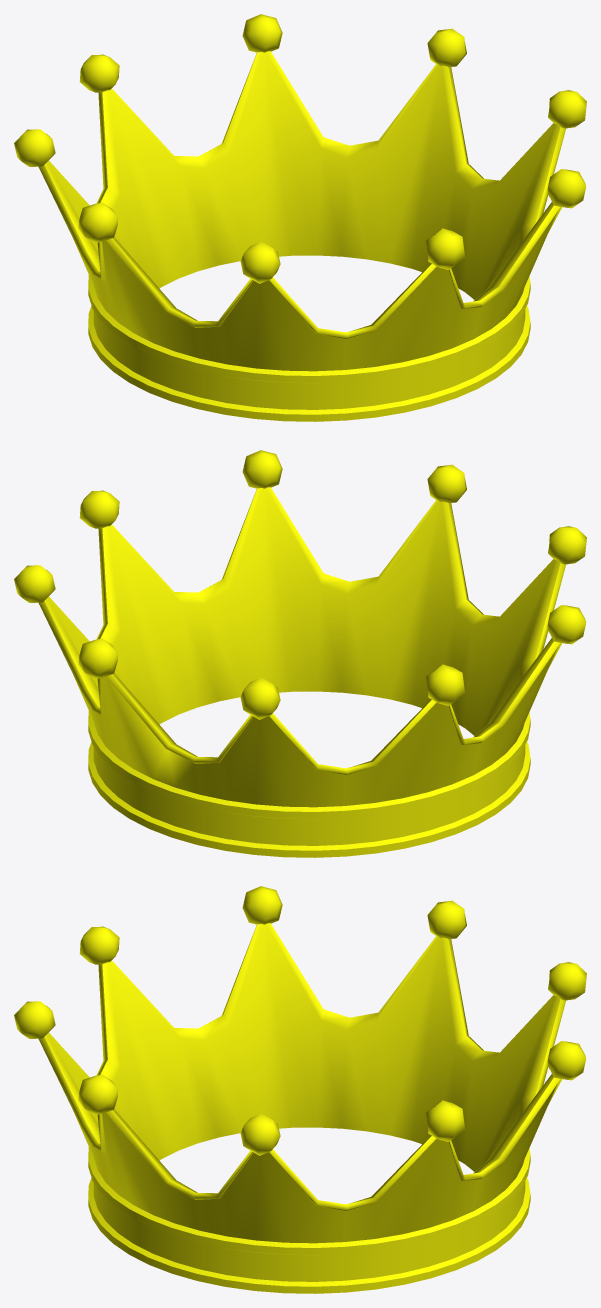
Rendered from Hat_35_02.fbx.
3 renders of one model, top to bottom at view 1: azimuth 30°, elevation 25°; view 2: azimuth 150°, elevation 25°; view 3: azimuth 270°, elevation 25°, orthographic.
Parts seen in each view (by area): view 1: Hat_35_02; view 2: Hat_35_02; view 3: Hat_35_02.
Part boxes in pixels (bbox=[...]): Hat_35_02: bbox=[14, 14, 586, 421]; Hat_35_02: bbox=[14, 450, 586, 857]; Hat_35_02: bbox=[14, 886, 586, 1293].
Bounding box in the file's own units: 48.35 × 18.62 × 47.64.
